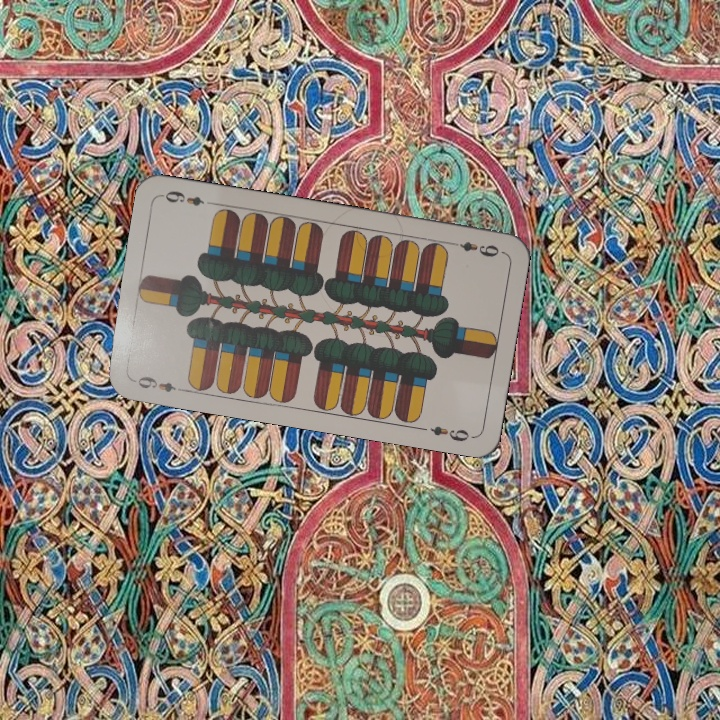E9: (446, 238, 505, 260), (133, 372, 188, 395)
